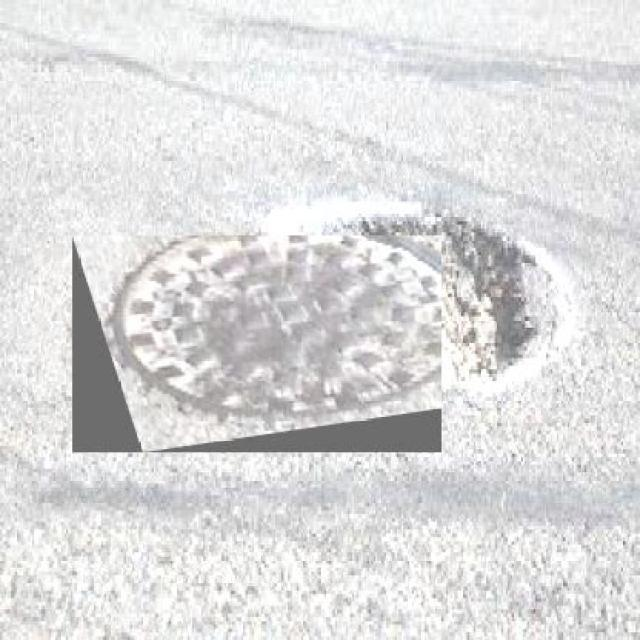Manhole: (73, 235, 442, 452)
Pothole: (437, 202, 565, 420), (342, 200, 458, 243)
